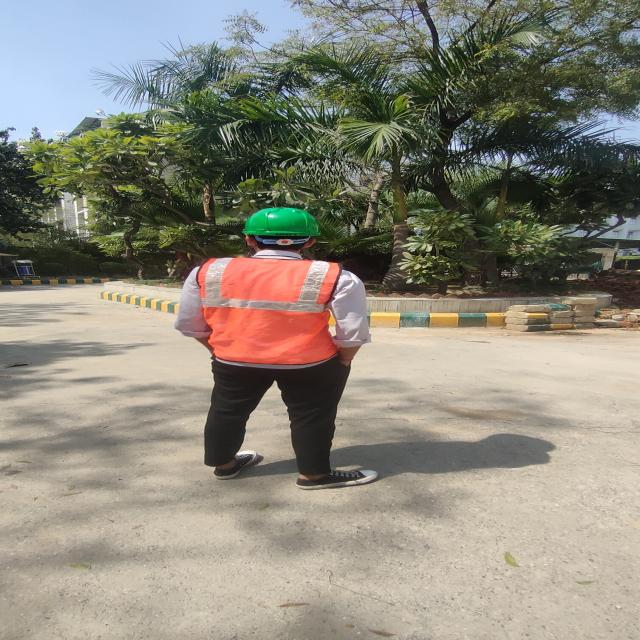safe: (177, 208, 377, 488)
